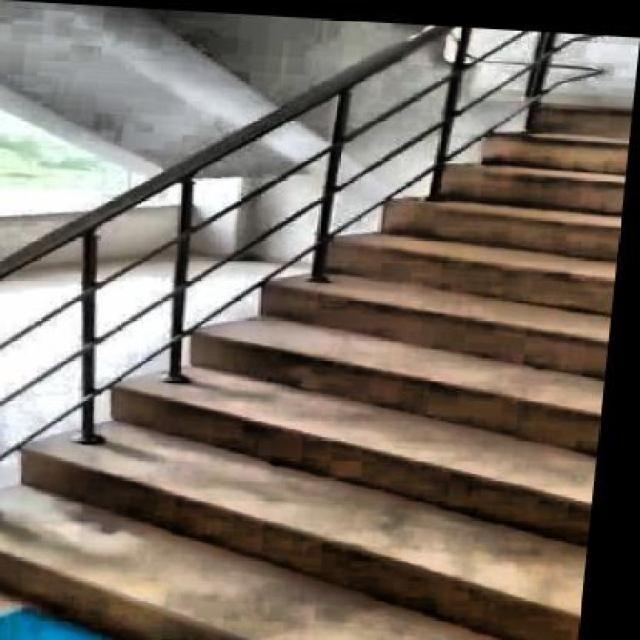stair: (0, 60, 634, 638)
